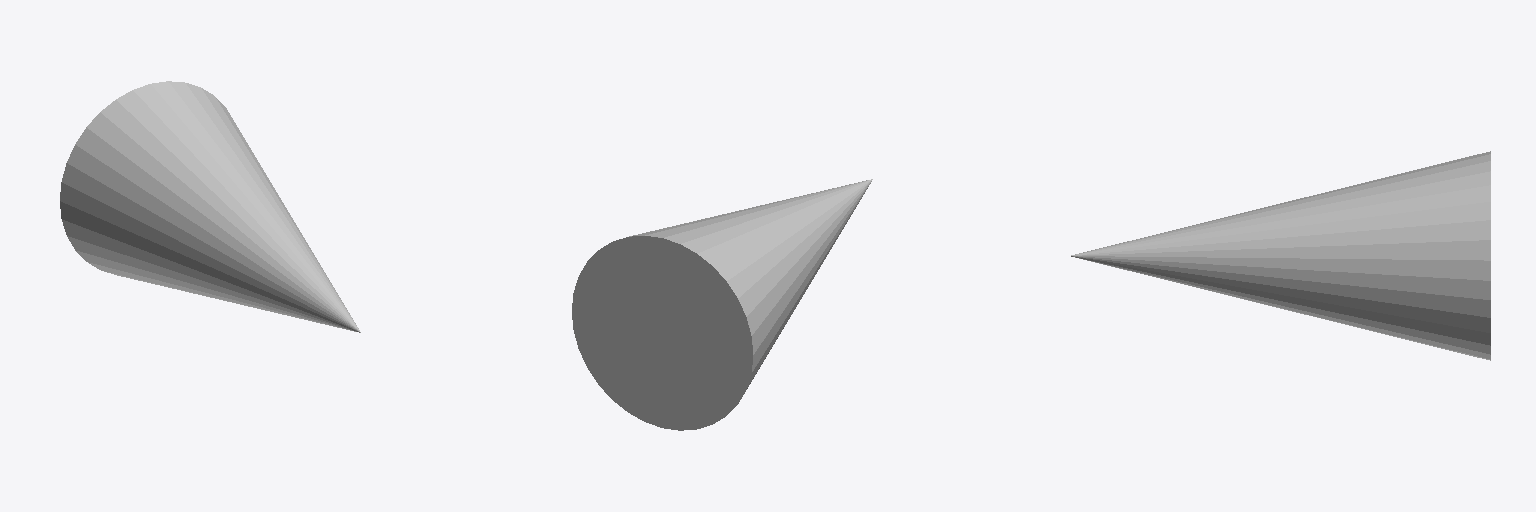
Rendered from testArrow.obj.
The picture shows the model from 3 angles: view 1: azimuth 30°, elevation 25°; view 2: azimuth 150°, elevation 25°; view 3: azimuth 270°, elevation 25°; orthographic projection.
Parts seen in each view (by area): view 1: Cone; view 2: Cone; view 3: Cone.
Boxes of the visible parts, box(x1,y1,x2,y2) form: Cone: box(60, 81, 360, 332); Cone: box(572, 179, 872, 430); Cone: box(1071, 151, 1490, 360).
Bounding box in the file's own units: 2 × 2 × 4.02.